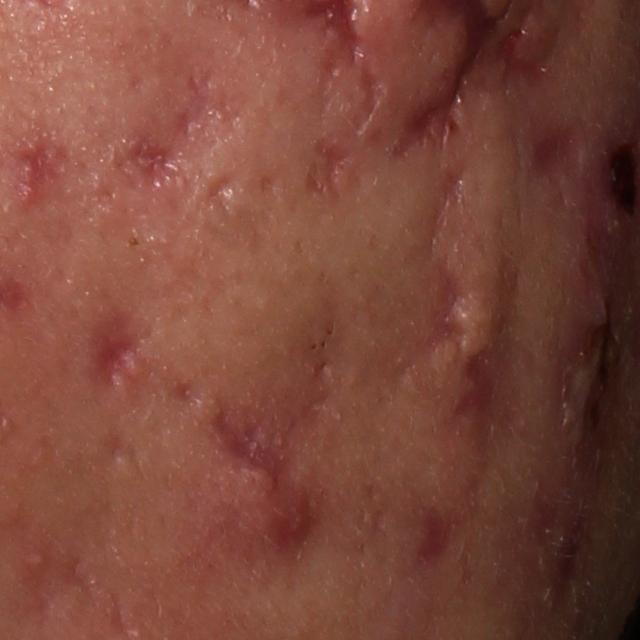atrophic_scar: (202, 346, 342, 491), (117, 74, 239, 191), (452, 257, 526, 447), (420, 168, 467, 359), (523, 116, 600, 189), (10, 126, 76, 211), (272, 480, 351, 550), (303, 136, 359, 204), (406, 503, 468, 564), (89, 318, 148, 375), (193, 173, 231, 212)
